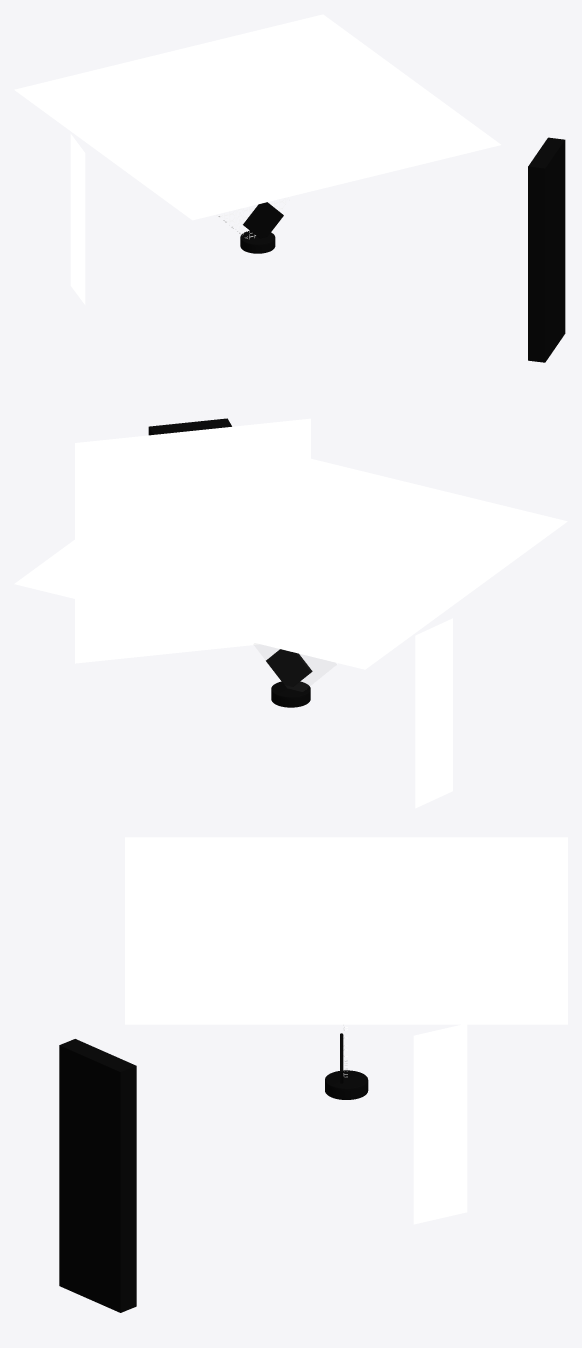
File: CEDIA AWARD 02.gltf
The picture shows the model from 3 angles, top to bottom: view 1: azimuth 30°, elevation 25°; view 2: azimuth 150°, elevation 25°; view 3: azimuth 270°, elevation 25°; orthographic projection. The views are drawn at different scales.
Parts seen in each view (by area): view 1: roof, Extrude, light face, Gass dimond.2, Cylinder; view 2: roof, light main, light face, Gass dimond.2, Cylinder, Extrude; view 3: roof, Extrude, light face2, Cylinder.
Boxes of the visible parts, x1=… form: roof: x1=14, y1=14, x2=500, y2=220; Extrude: x1=528, y1=137, x2=565, y2=362; light face: x1=70, y1=134, x2=85, y2=304; Gass dimond.2: x1=243, y1=202, x2=283, y2=238; Cylinder: x1=240, y1=230, x2=275, y2=253; roof: x1=14, y1=436, x2=567, y2=669; light main: x1=75, y1=418, x2=310, y2=663; light face: x1=415, y1=618, x2=452, y2=808; Gass dimond.2: x1=266, y1=649, x2=312, y2=686; Cylinder: x1=271, y1=681, x2=310, y2=707; Extrude: x1=148, y1=418, x2=231, y2=435; roof: x1=125, y1=837, x2=567, y2=1024; Extrude: x1=59, y1=1039, x2=136, y2=1312; light face2: x1=413, y1=1024, x2=467, y2=1224; Cylinder: x1=325, y1=1070, x2=368, y2=1099.
Size of the model in its own units: 2638 by 1252 by 2502.
7 materials, 1 textured.
